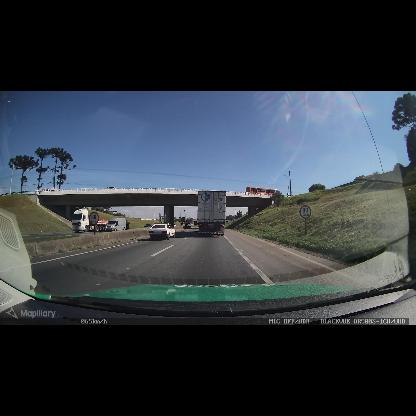R-19: (299, 205, 312, 219), (89, 212, 99, 225)
